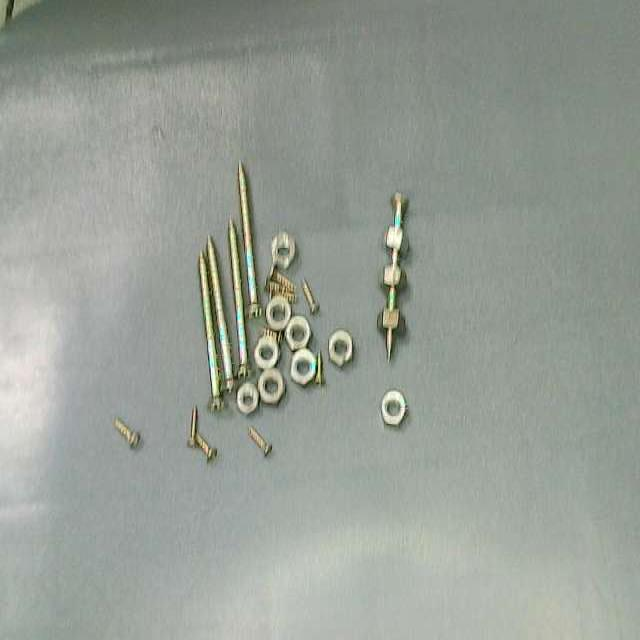Parafuso: (207, 236, 233, 391), (199, 254, 222, 410), (238, 163, 261, 317), (228, 220, 248, 378), (387, 192, 404, 366), (266, 272, 296, 302), (114, 418, 140, 447), (266, 267, 295, 291), (193, 432, 216, 462), (249, 427, 271, 455), (301, 279, 318, 314), (262, 327, 281, 343), (315, 351, 323, 385), (190, 407, 197, 445)
Porca: (258, 368, 284, 405), (381, 390, 406, 426), (271, 232, 295, 269), (291, 348, 315, 385), (285, 316, 310, 350), (266, 296, 290, 331), (329, 330, 352, 366), (254, 336, 279, 369), (237, 382, 259, 414), (385, 226, 409, 255), (378, 310, 406, 334), (381, 266, 406, 289)
